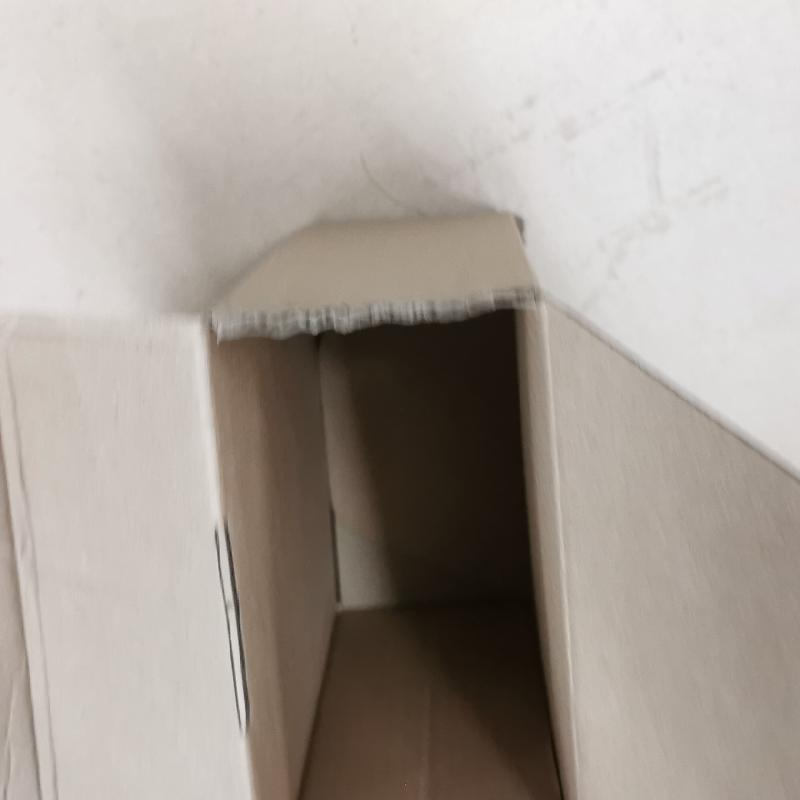boxes: (16, 206, 800, 799)
